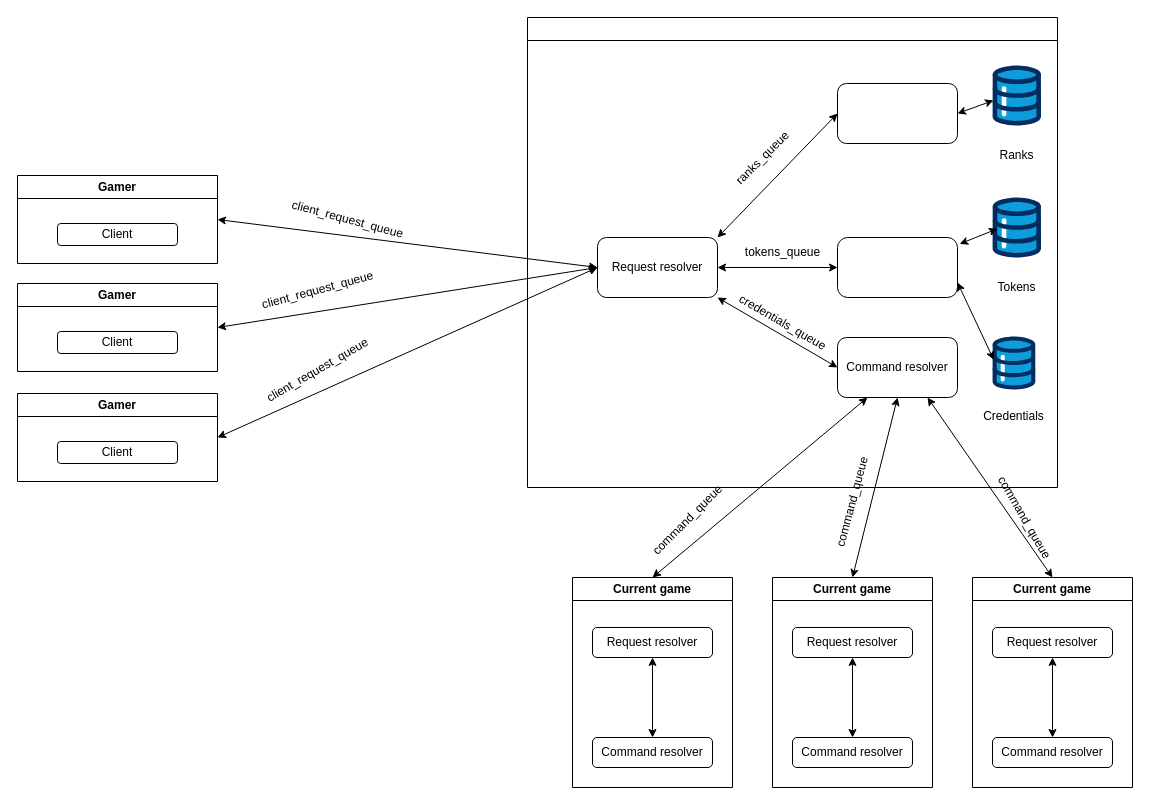
This 1150x805 diagram has some shape labels left out. Here are the shapes that lost their labels. From the top down, the box of each, then its label:
(836, 82, 958, 144): Ranks resolver
(526, 16, 1058, 488): Server
(836, 236, 958, 298): Auth resolver
